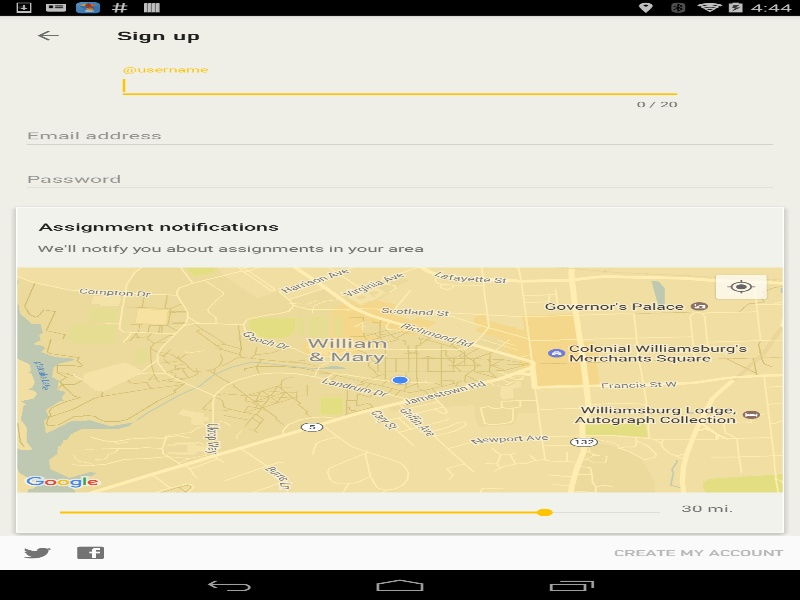Button: (598, 535, 800, 570), (10, 15, 85, 55), (10, 540, 64, 565), (64, 540, 117, 565)
Input: (21, 166, 778, 193), (21, 123, 778, 149), (117, 72, 682, 99)
